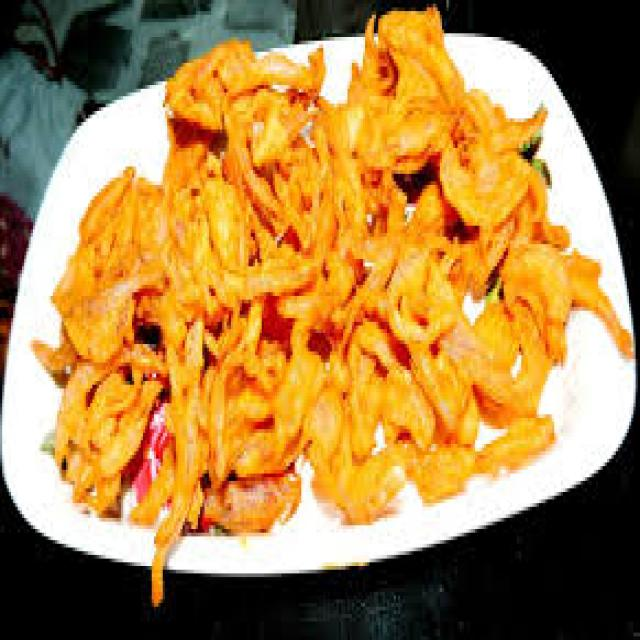BAJI: (32, 10, 631, 593)
